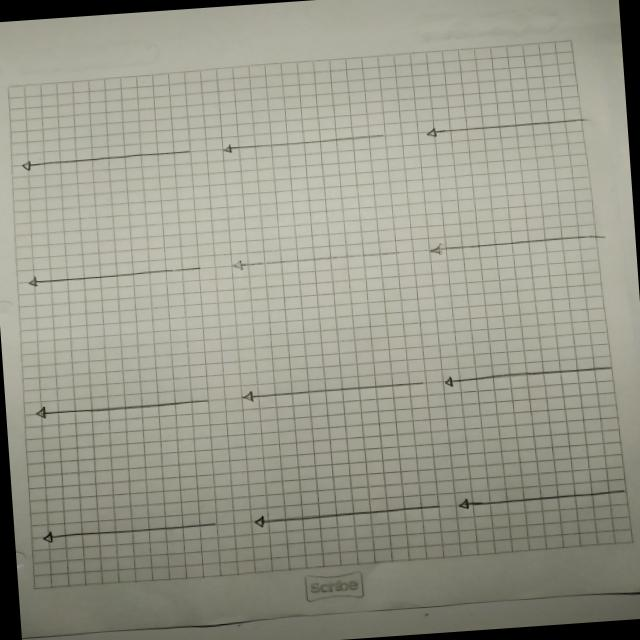arrow_line_left: (244, 494, 446, 538), (231, 370, 430, 414), (32, 514, 227, 558), (27, 386, 220, 430), (435, 356, 626, 396), (422, 226, 606, 267), (222, 243, 410, 283), (452, 480, 638, 520), (17, 260, 212, 294), (214, 126, 397, 161), (15, 142, 198, 176), (413, 112, 596, 146)
